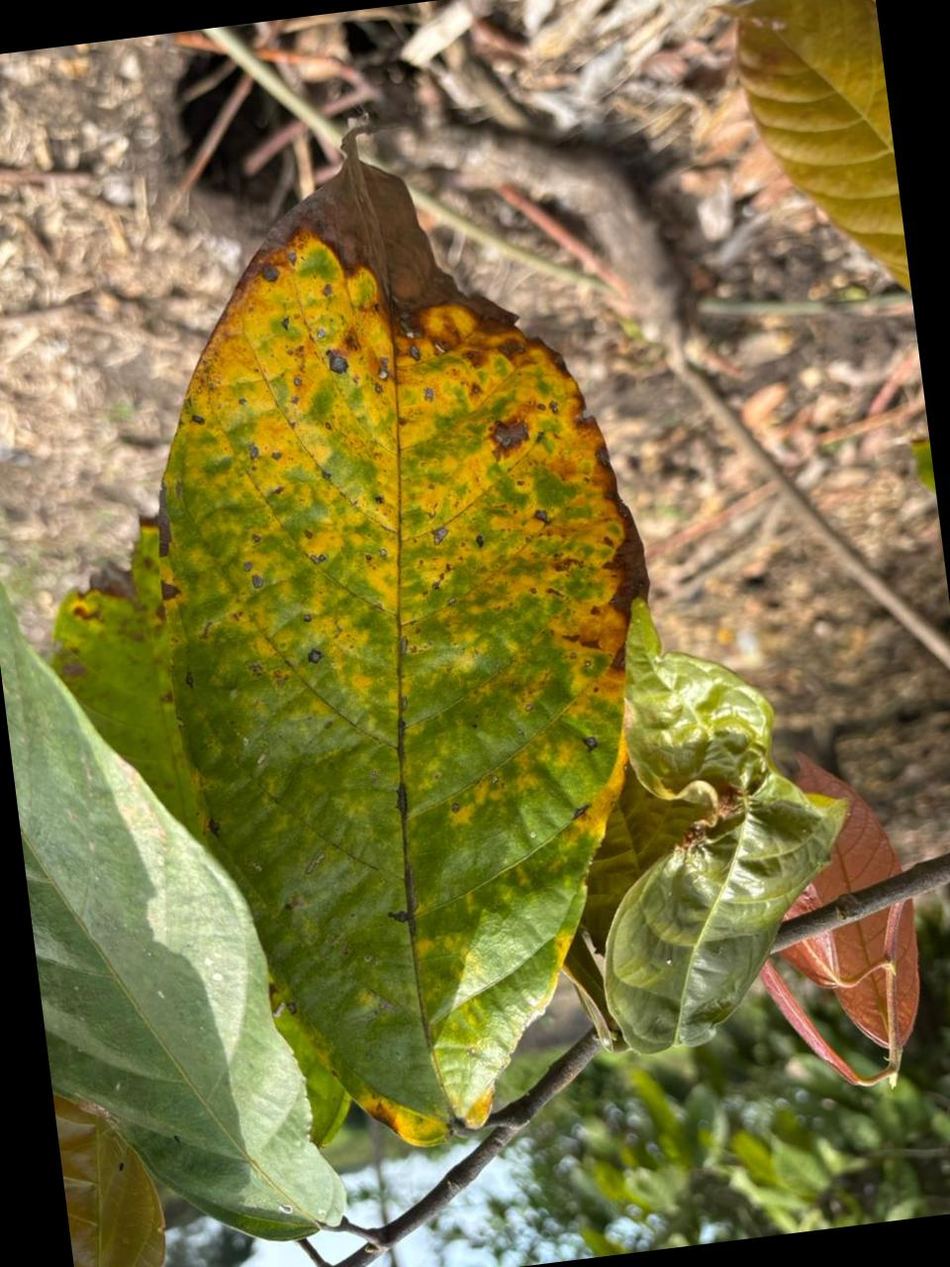Fosforo: (161, 157, 645, 1145)
